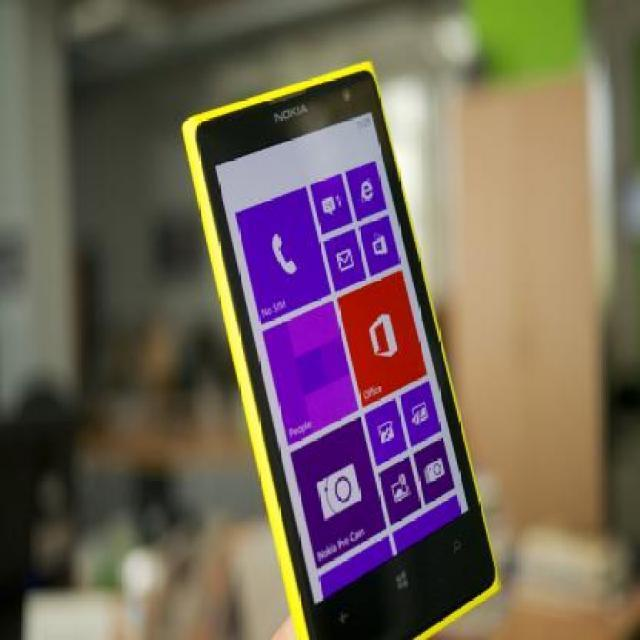phone: (190, 46, 506, 640)
